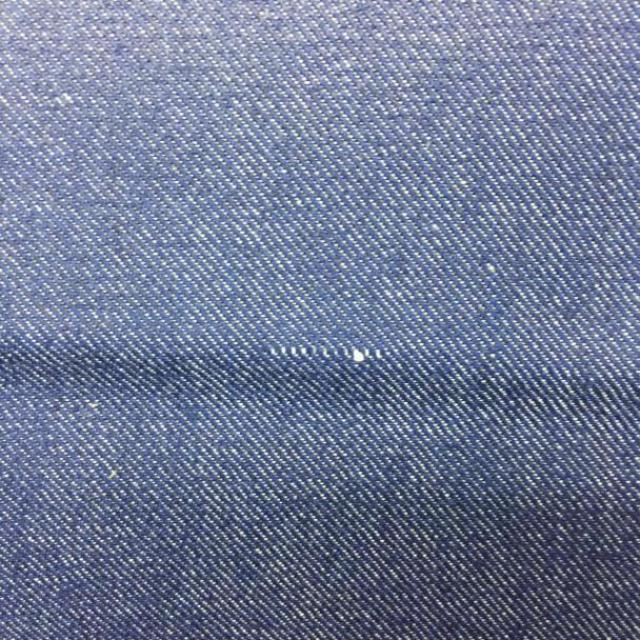Knot: (268, 346, 387, 364)
